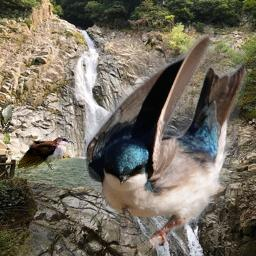Cuckoo: (16, 114, 74, 171), (0, 100, 15, 144)
Swallow: (84, 33, 247, 252)
